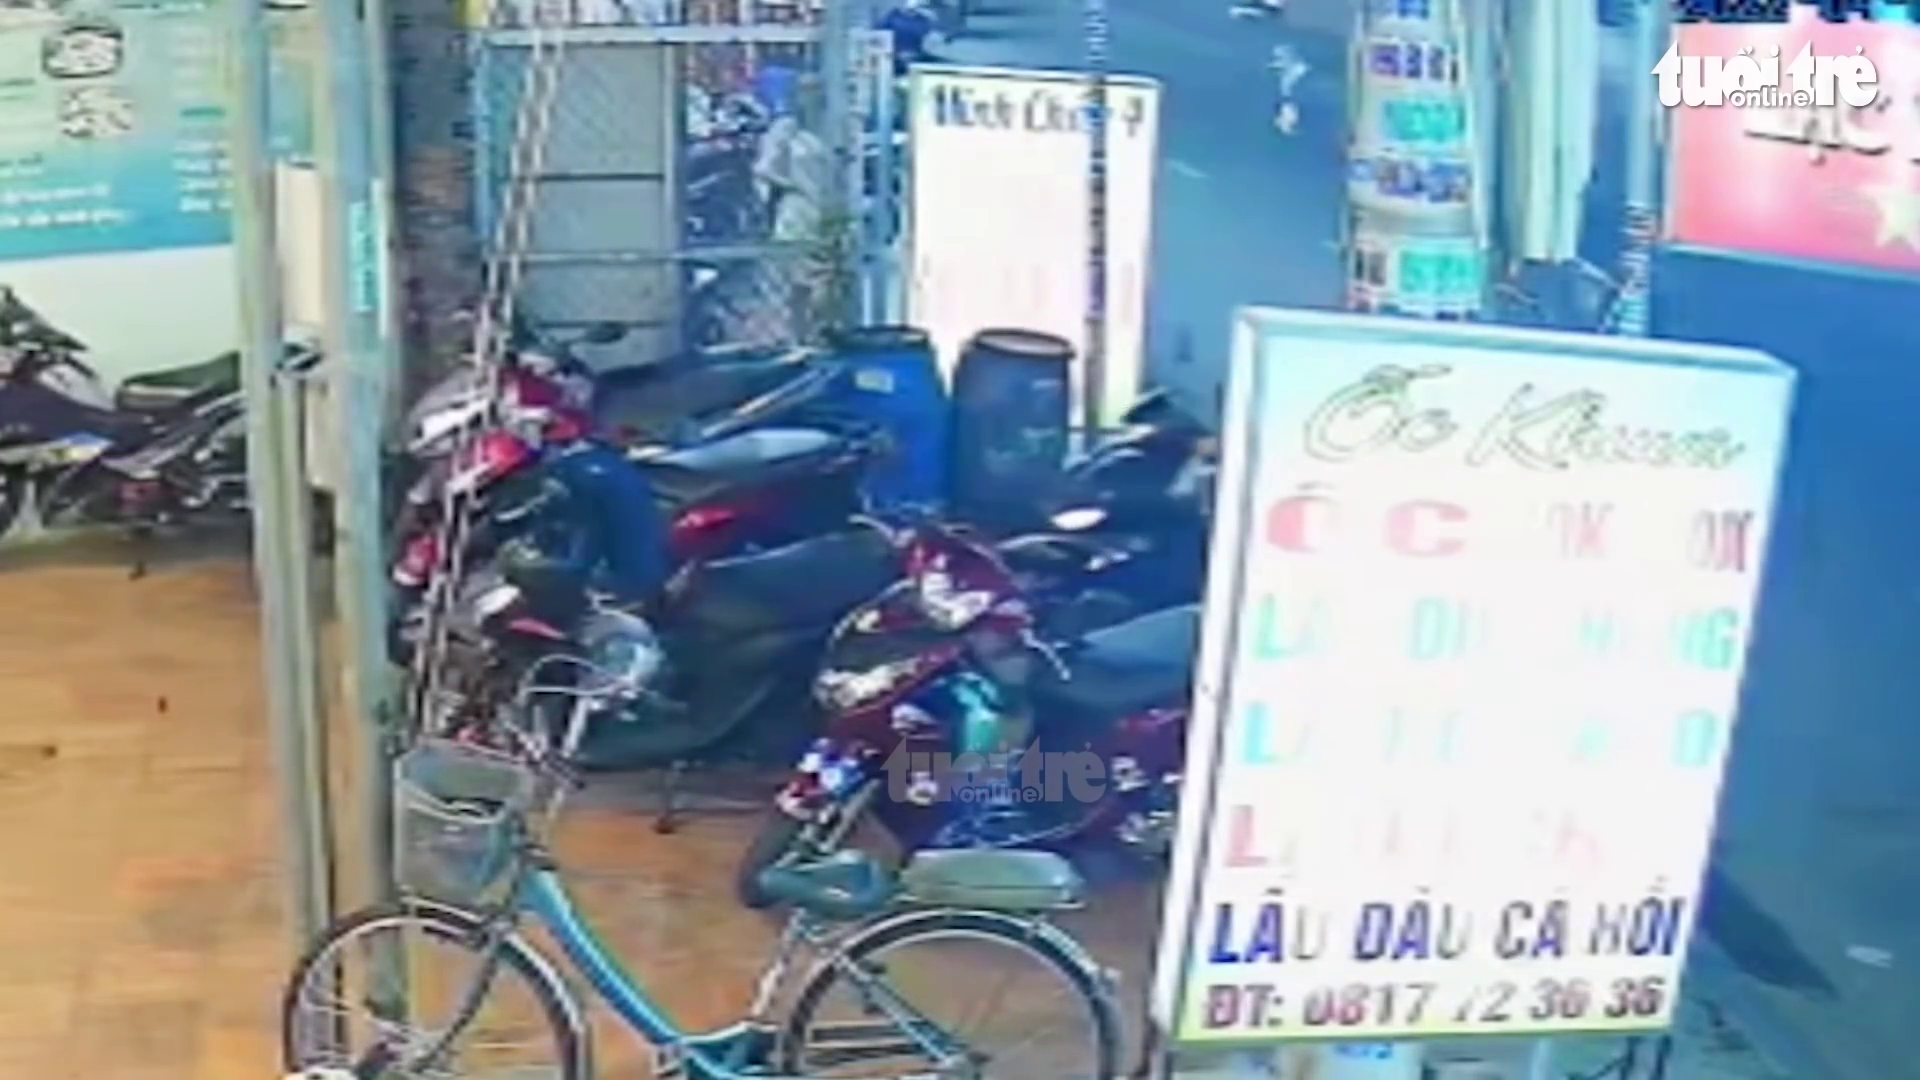Motorcycle: (407, 473, 1199, 820), (733, 521, 1203, 903), (386, 356, 899, 661), (419, 513, 913, 823), (0, 286, 251, 553)
